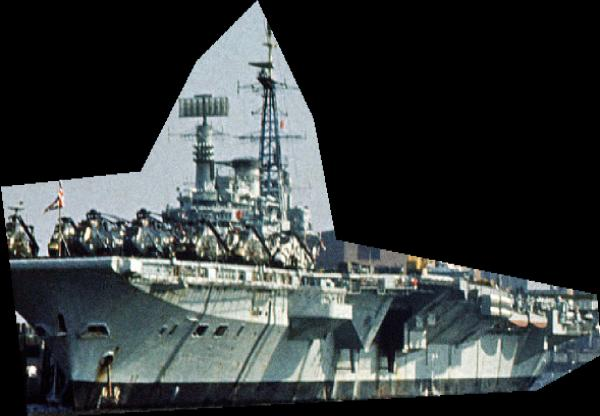Aircraft Carrier: (1, 1, 600, 416)
